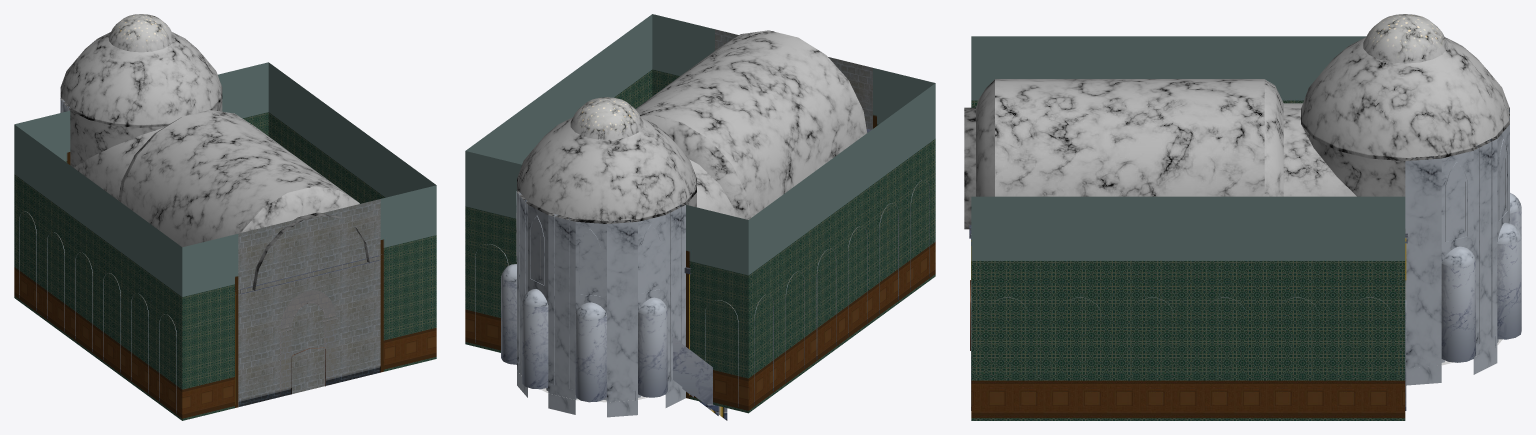
File: the_arch_counsil.FBX
3 renders of one model, left to right at view 1: azimuth 30°, elevation 25°; view 2: azimuth 150°, elevation 25°; view 3: azimuth 270°, elevation 25°, orthographic. The views are drawn at different scales.
Parts seen in each view (by area): view 1: WallUnwrap, Object003, Object004; view 2: WallUnwrap, Object003, StatuePlaceUnwrapped002, StatuePlaceUnwrapped003, StatuePlaceUnwrapped, Plane007, StatuePlaceUnwrapped001, Object004, arch_unwrapped016; view 3: WallUnwrap, Object003, StatuePlaceUnwrapped001, StatuePlaceUnwrapped, Cylinder099.
Part boxes in pixels (x1,y1,x2,y2): WallUnwrap: [14, 62, 436, 420]; Object003: [60, 14, 369, 290]; Object004: [238, 199, 380, 407]; WallUnwrap: [465, 14, 935, 417]; Object003: [517, 30, 866, 223]; StatuePlaceUnwrapped002: [575, 222, 606, 402]; StatuePlaceUnwrapped003: [638, 215, 667, 397]; StatuePlaceUnwrapped: [522, 205, 548, 390]; Plane007: [540, 236, 727, 420]; StatuePlaceUnwrapped001: [501, 191, 516, 364]; Object004: [715, 29, 872, 129]; arch_unwrapped016: [689, 274, 773, 406]; WallUnwrap: [971, 36, 1497, 420]; Object003: [964, 14, 1509, 233]; StatuePlaceUnwrapped001: [1441, 151, 1475, 362]; StatuePlaceUnwrapped: [1497, 124, 1521, 342]; Cylinder099: [1476, 138, 1495, 346].
Size of the model in its own units: 356 by 354 by 522.
